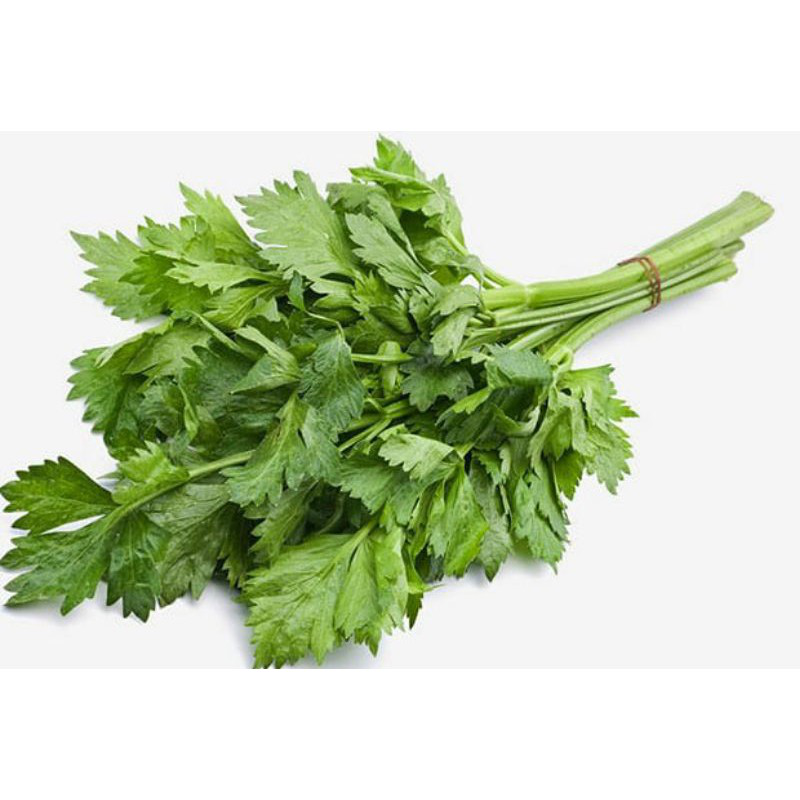Seledri: (35, 169, 800, 628)
